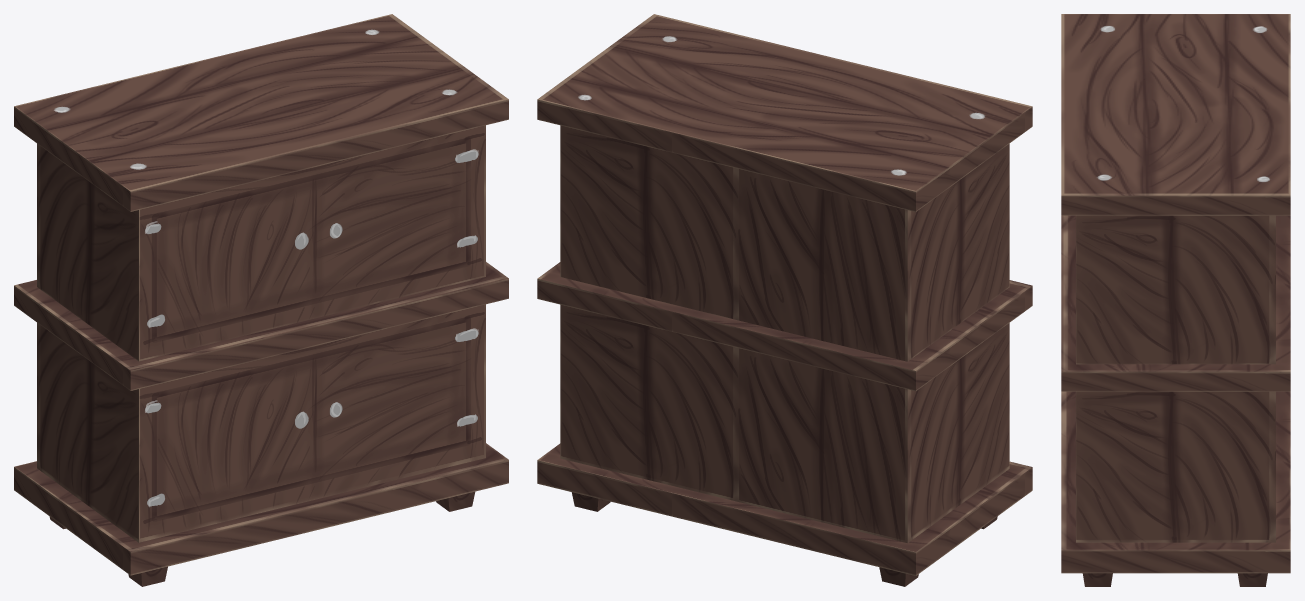
The model's file is closet_medium.glb.
The picture shows the model from 3 angles, left to right: view 1: azimuth 30°, elevation 25°; view 2: azimuth 150°, elevation 25°; view 3: azimuth 270°, elevation 25°; orthographic projection.
Visible parts, largest first — view 1: closet_medium; view 2: closet_medium; view 3: closet_medium.
Part boxes in pixels (<box>): closet_medium: <box>14,14,508,586</box>; closet_medium: <box>537,14,1032,586</box>; closet_medium: <box>1061,14,1290,586</box>.
Size of the model in its own units: 1.21 by 1.25 by 0.6447.
1 material, 1 textured.
